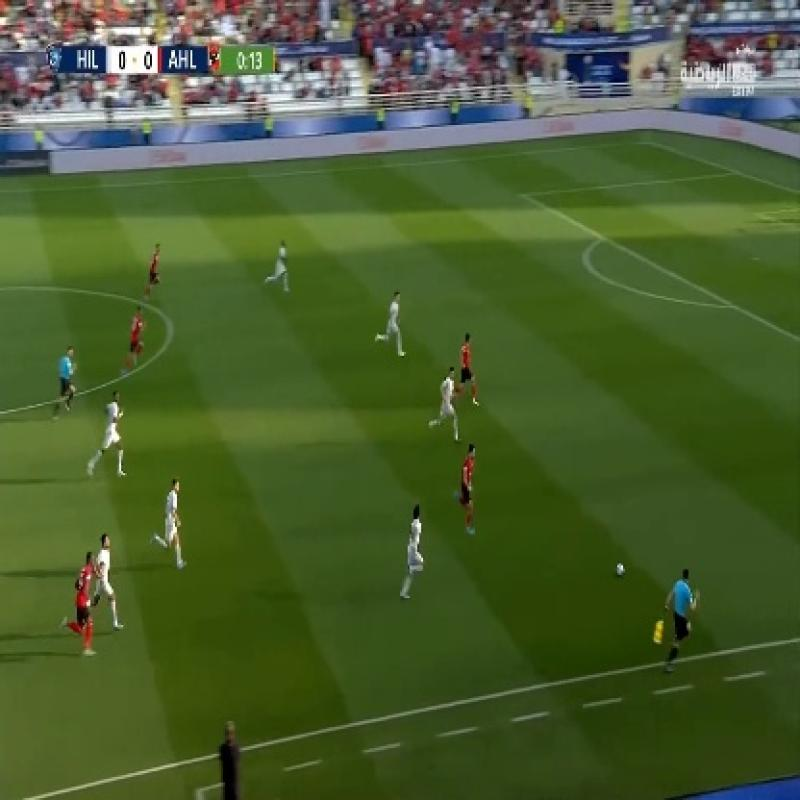1: (639, 134, 665, 154)
10: (594, 228, 608, 246)
11: (723, 296, 737, 314)
2: (724, 164, 744, 181)
9: (514, 187, 542, 207)
c: (152, 312, 182, 345)
